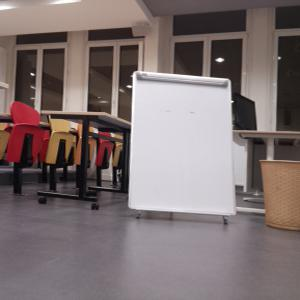big: (128, 70, 237, 219)
medium: (259, 160, 300, 231)
